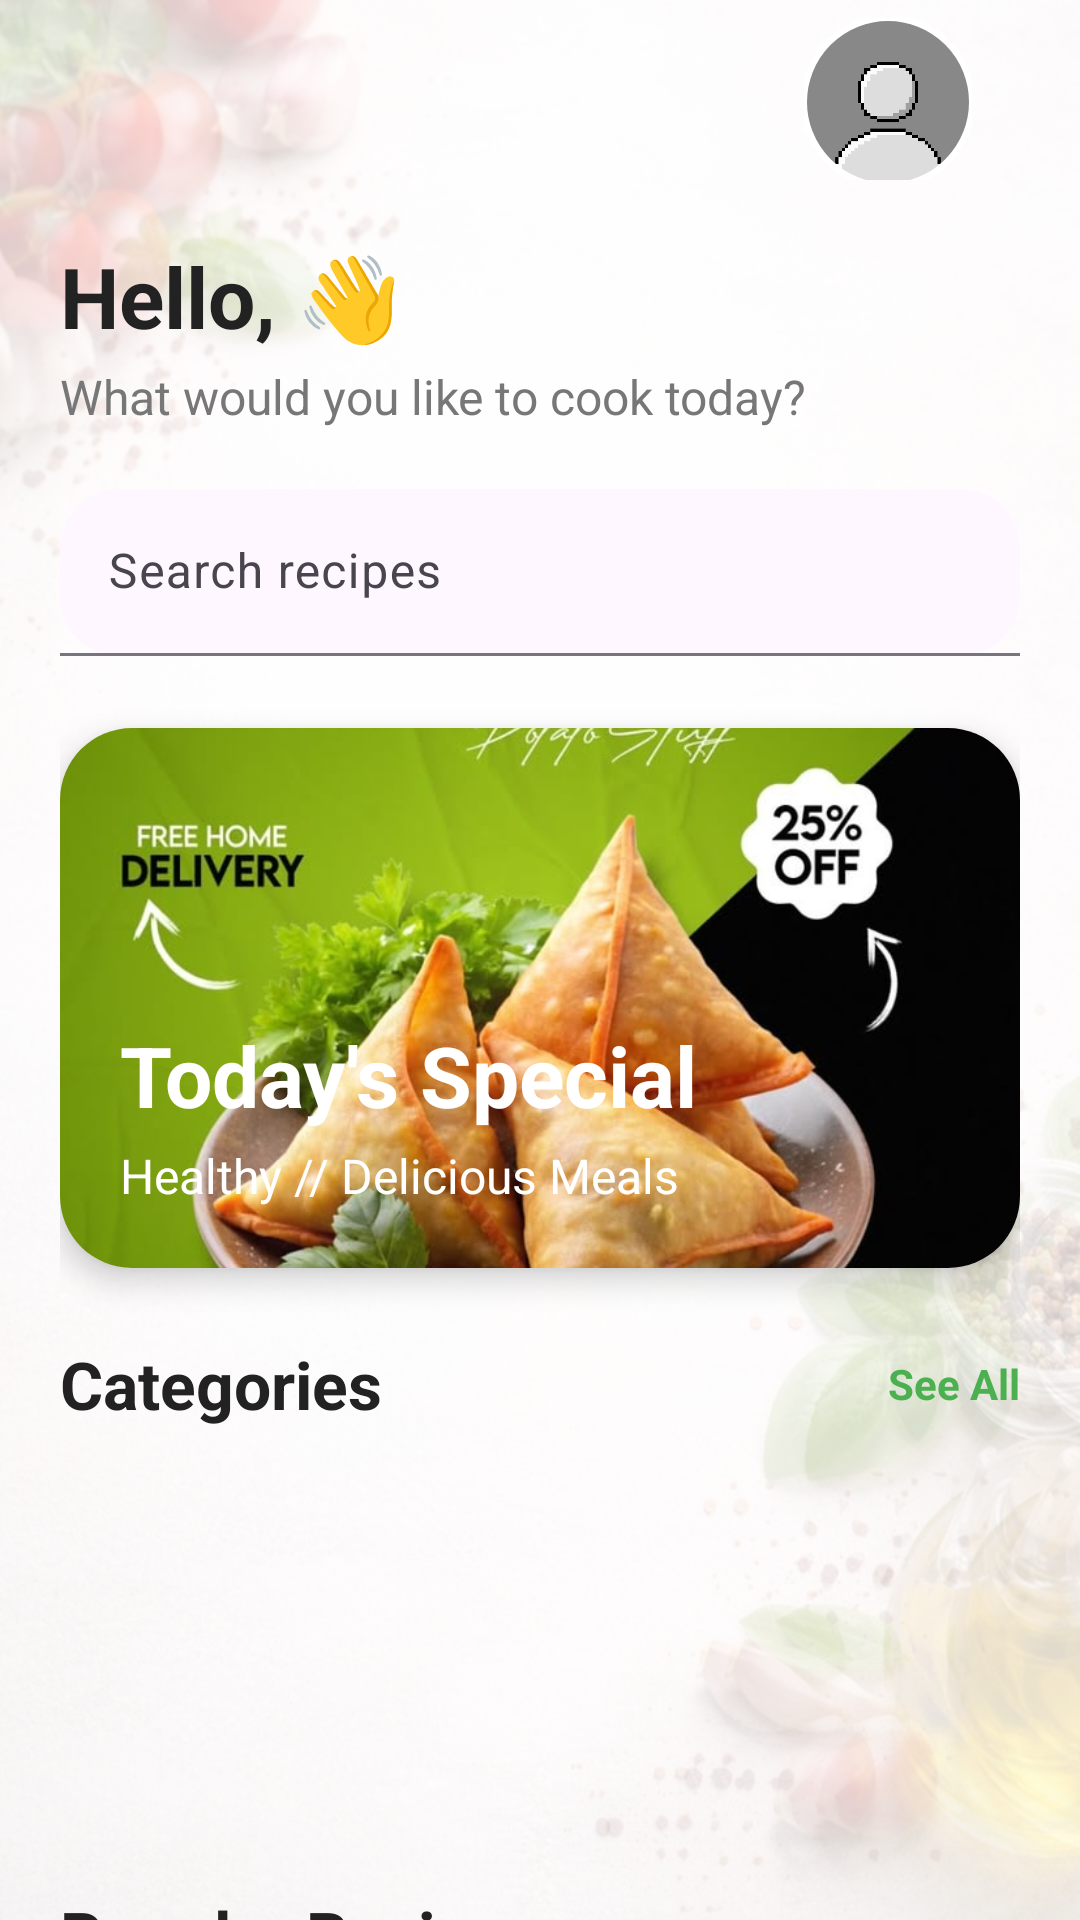

Icon bounding boxes for this 1080×1920 phone screenshot, format Rect(x1, y1, x2, y2):
profile: Rect(807, 21, 969, 180)
